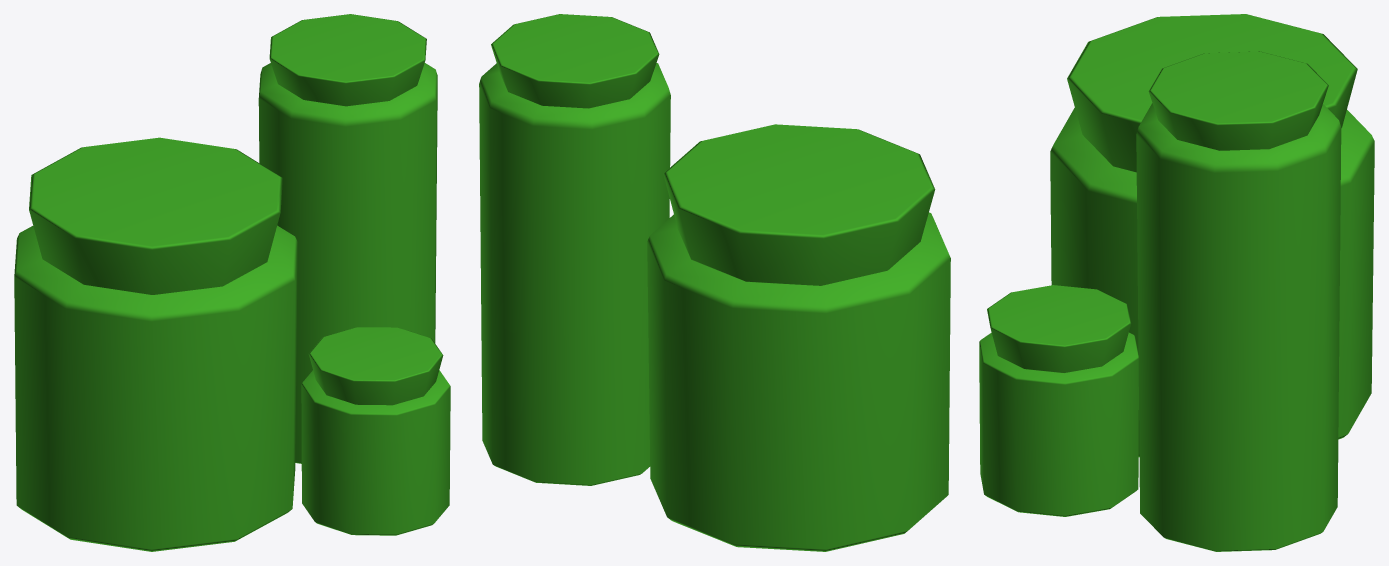
File: Env_SpecimenJars_01.fbx
3 renders of one model, left to right at view 1: azimuth 30°, elevation 25°; view 2: azimuth 150°, elevation 25°; view 3: azimuth 270°, elevation 25°, orthographic. The views are drawn at different scales.
Visible parts, largest first — view 1: BigGlass, TallGlass, BigCork, SmallGlass, TallCork, SmallCork; view 2: BigGlass, TallGlass, BigCork, TallCork; view 3: TallGlass, SmallGlass, BigGlass, BigCork, TallCork, SmallCork.
Part boxes in pixels (x1,y1,x2,y2): BigGlass: (14,225,297,551); TallGlass: (258,63,437,463); BigCork: (29,137,282,294); SmallGlass: (301,370,450,535); TallCork: (269,14,426,106); SmallCork: (308,327,443,405); BigGlass: (647,212,950,551); TallGlass: (479,63,670,485); BigCork: (663,124,935,285); TallCork: (491,14,659,108); TallGlass: (1136,103,1341,551); SmallGlass: (979,332,1138,516); BigGlass: (1050,107,1374,457); BigCork: (1067,14,1357,172); TallCork: (1148,51,1328,150); SmallCork: (987,285,1131,372).
Bounding box in the file's own units: 0.3779 × 0.3447 × 0.2887.
